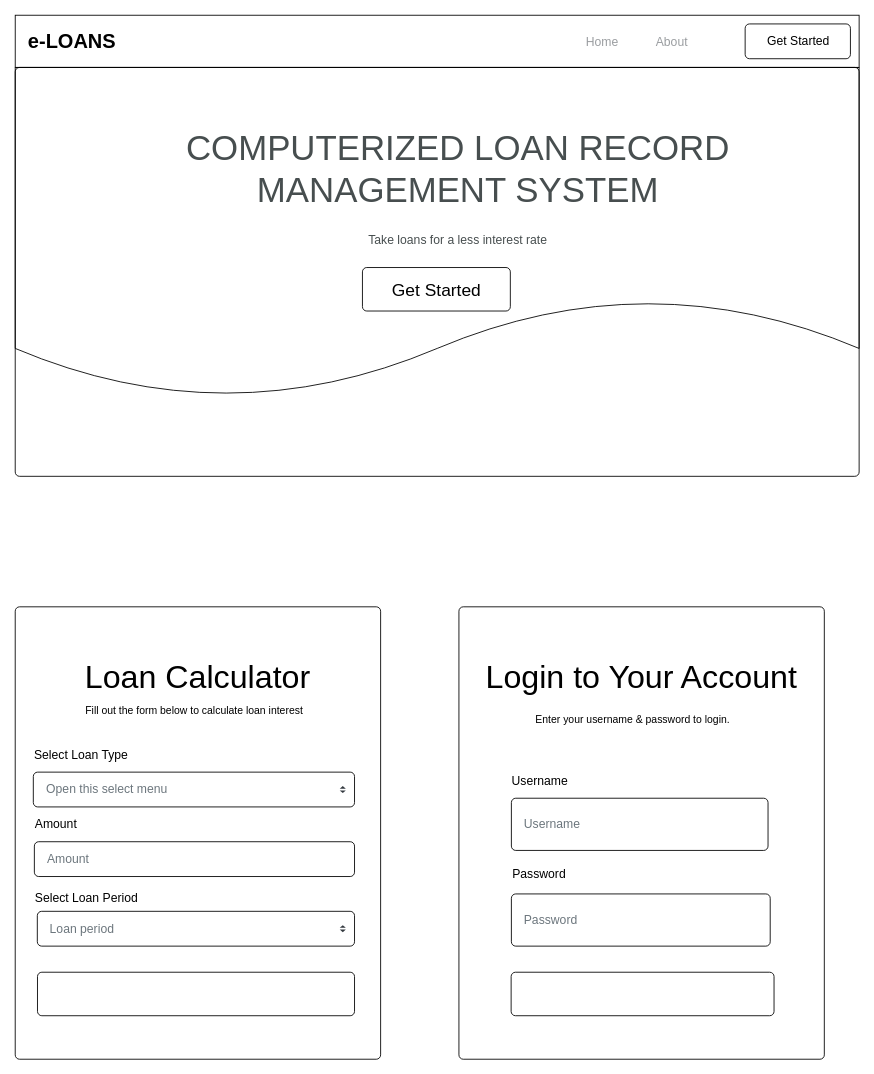
The diagram is 874 pixels wide and 1074 high, and some of its shapes have lost their labels. Each missing label, with the centre of its shape:
"Calculate Interest Payment" goes at (196,993).
"Login" goes at (642,993).
